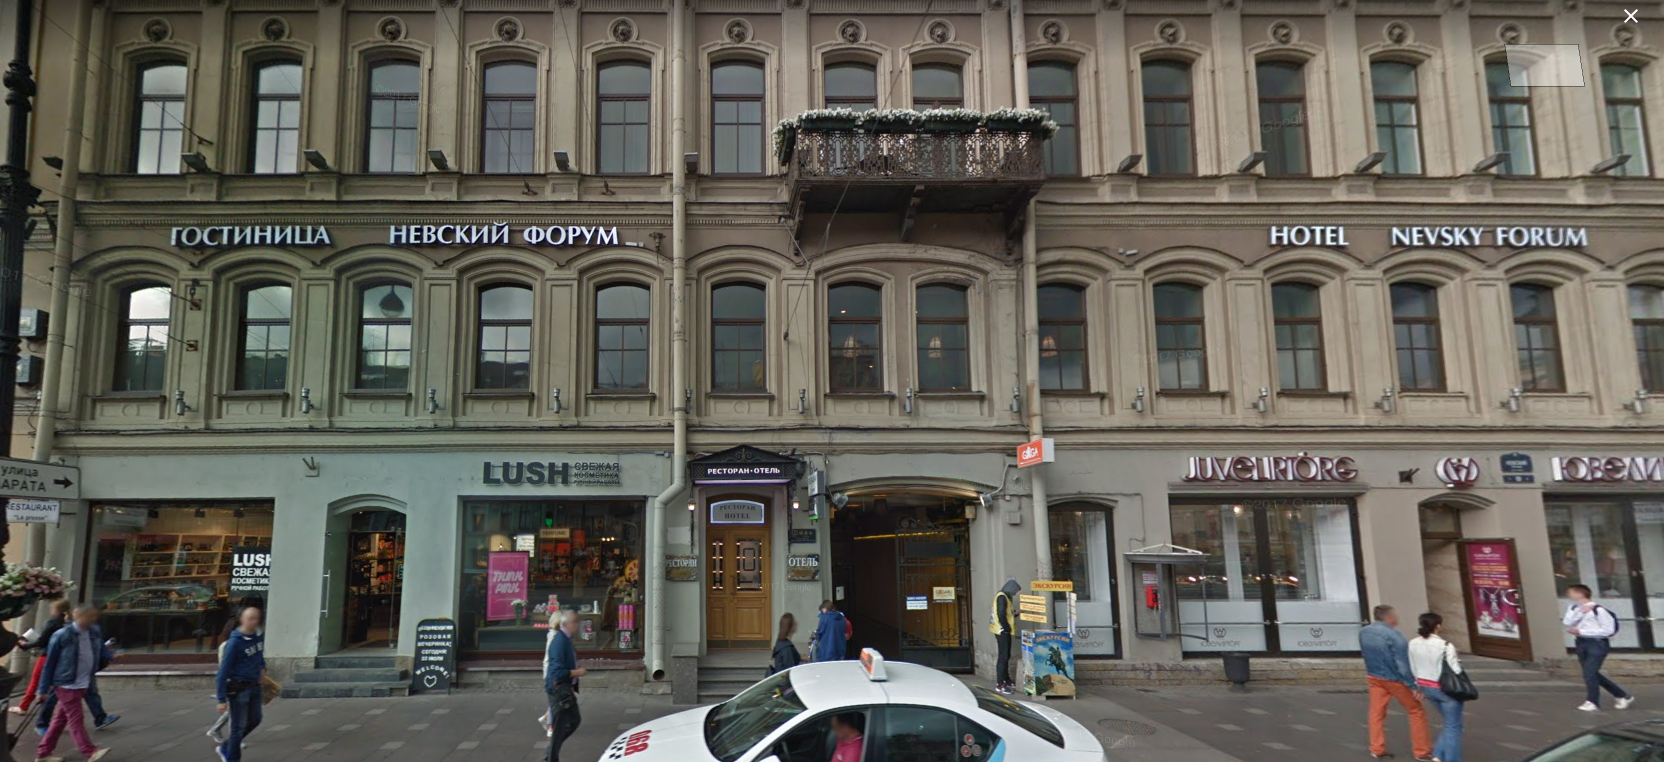arch: (817, 480, 993, 672)
cantilever: (801, 455, 831, 531), (1011, 431, 1059, 475)
door: (1407, 490, 1521, 656), (315, 498, 400, 651)
signboard: (161, 217, 626, 254), (1260, 218, 1595, 255), (1169, 452, 1367, 487), (476, 454, 632, 495), (1546, 445, 1664, 488), (684, 448, 793, 483), (1433, 451, 1486, 493)
window: (76, 501, 266, 663), (462, 498, 643, 660), (1185, 496, 1360, 659), (1044, 497, 1127, 660), (230, 46, 309, 176), (348, 49, 424, 175), (103, 280, 172, 402), (345, 274, 411, 401), (469, 53, 537, 174), (466, 279, 536, 396), (224, 280, 293, 398), (587, 55, 649, 181), (703, 57, 768, 169), (831, 279, 889, 397), (591, 279, 649, 396), (710, 280, 768, 397), (1275, 277, 1334, 391), (1371, 53, 1425, 176), (1152, 279, 1210, 395), (1145, 55, 1198, 179), (133, 52, 186, 173), (921, 279, 975, 395), (1397, 279, 1448, 392), (1040, 276, 1088, 396), (1034, 60, 1082, 176), (1512, 279, 1560, 396), (1265, 52, 1308, 176), (1496, 60, 1538, 180), (1615, 65, 1644, 171)
